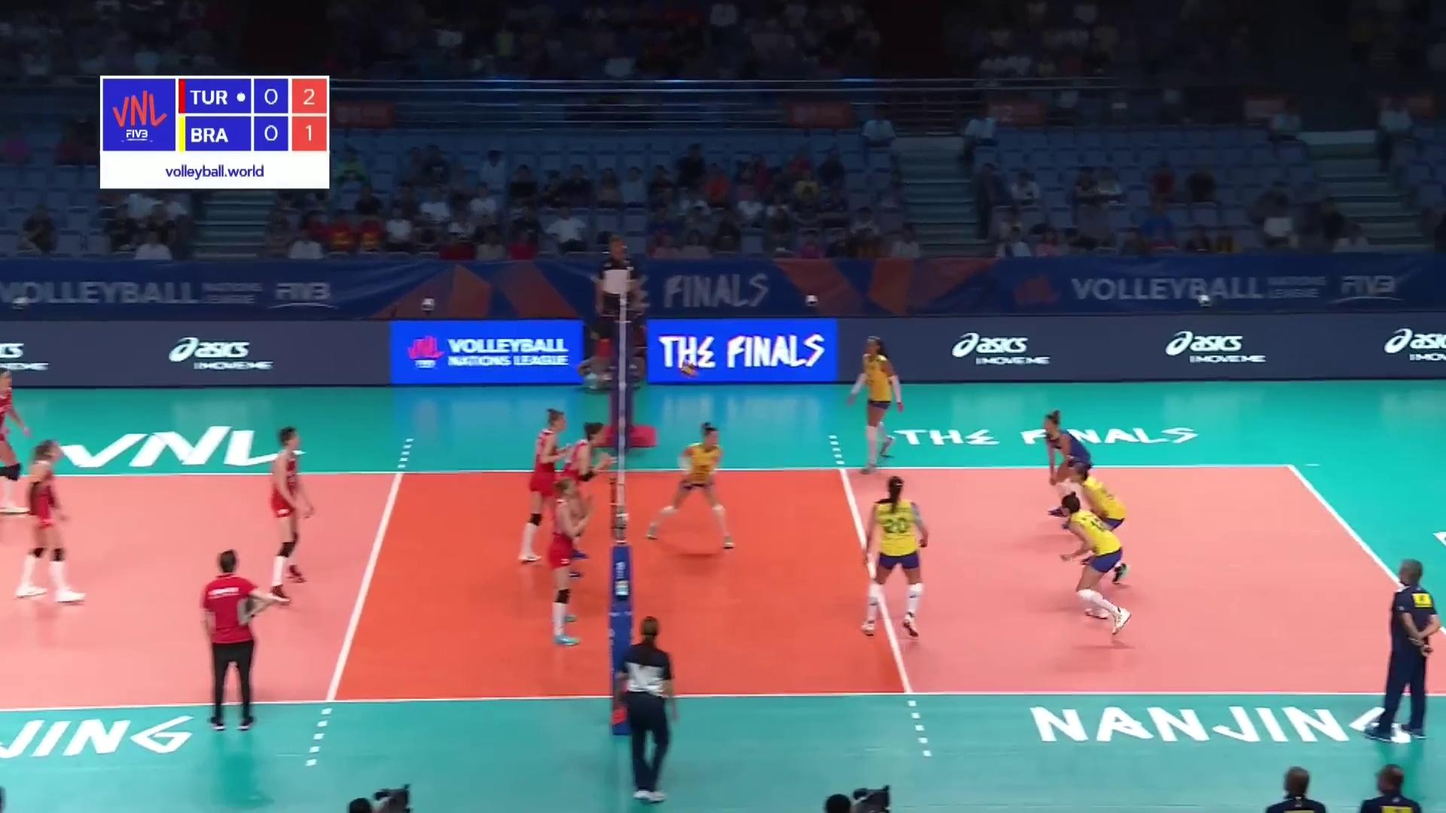player: (17, 438, 86, 604), (865, 479, 936, 639), (644, 426, 733, 552), (1061, 495, 1137, 628), (263, 429, 315, 601), (560, 419, 610, 578), (544, 478, 591, 647), (525, 411, 577, 562), (848, 334, 903, 469), (1067, 463, 1128, 581), (1040, 413, 1096, 519), (0, 374, 31, 521)
refree: (611, 630, 681, 797), (591, 234, 645, 393)
